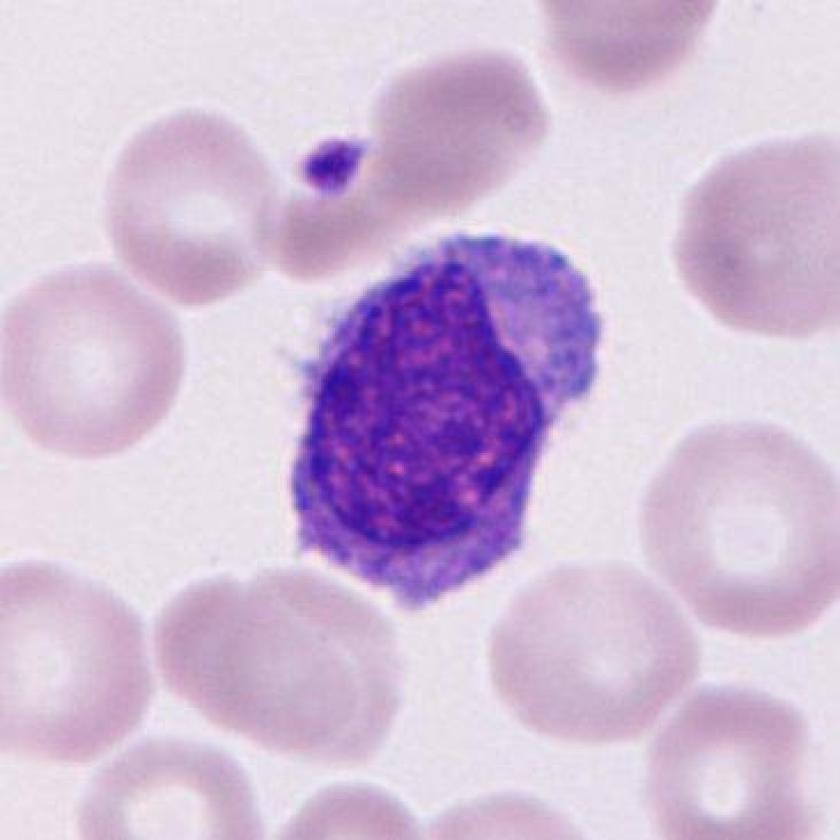monocyte: (260, 215, 623, 620)
